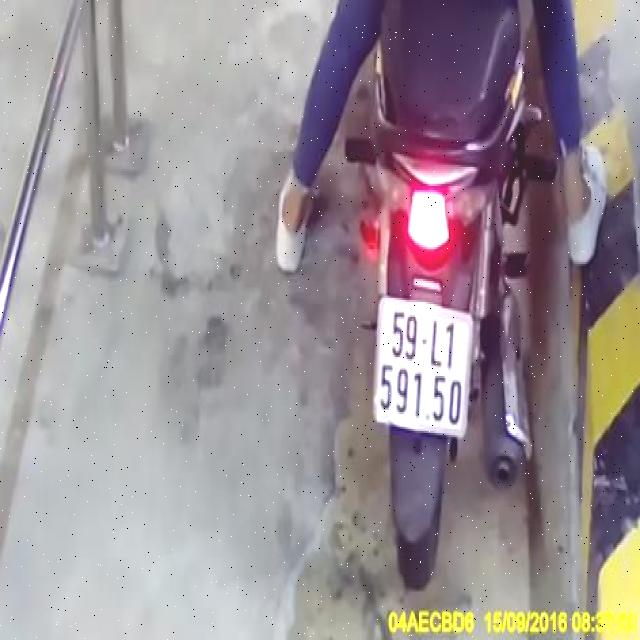0: (448, 377, 463, 428)
1: (413, 369, 425, 419), (444, 321, 456, 370)
5: (379, 361, 393, 412), (433, 375, 445, 424), (393, 312, 404, 356)
9: (404, 311, 418, 363), (396, 366, 410, 416)
B: (371, 293, 472, 442)
L: (428, 318, 442, 367)
